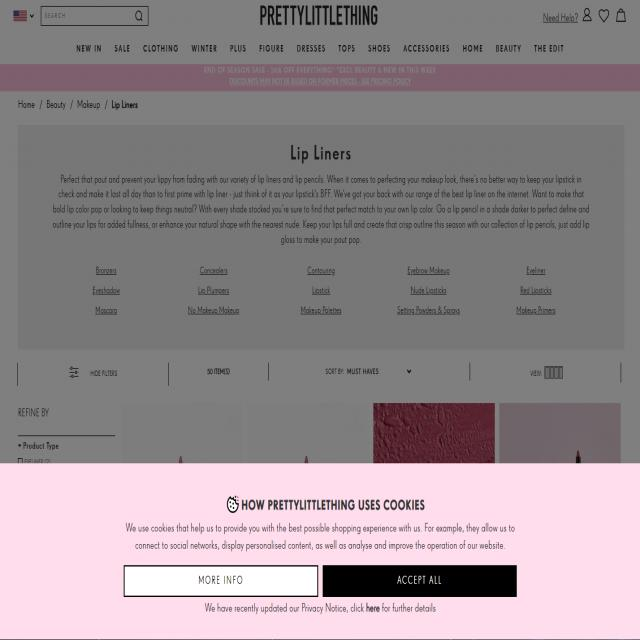sneaking: (117, 482, 540, 627)
